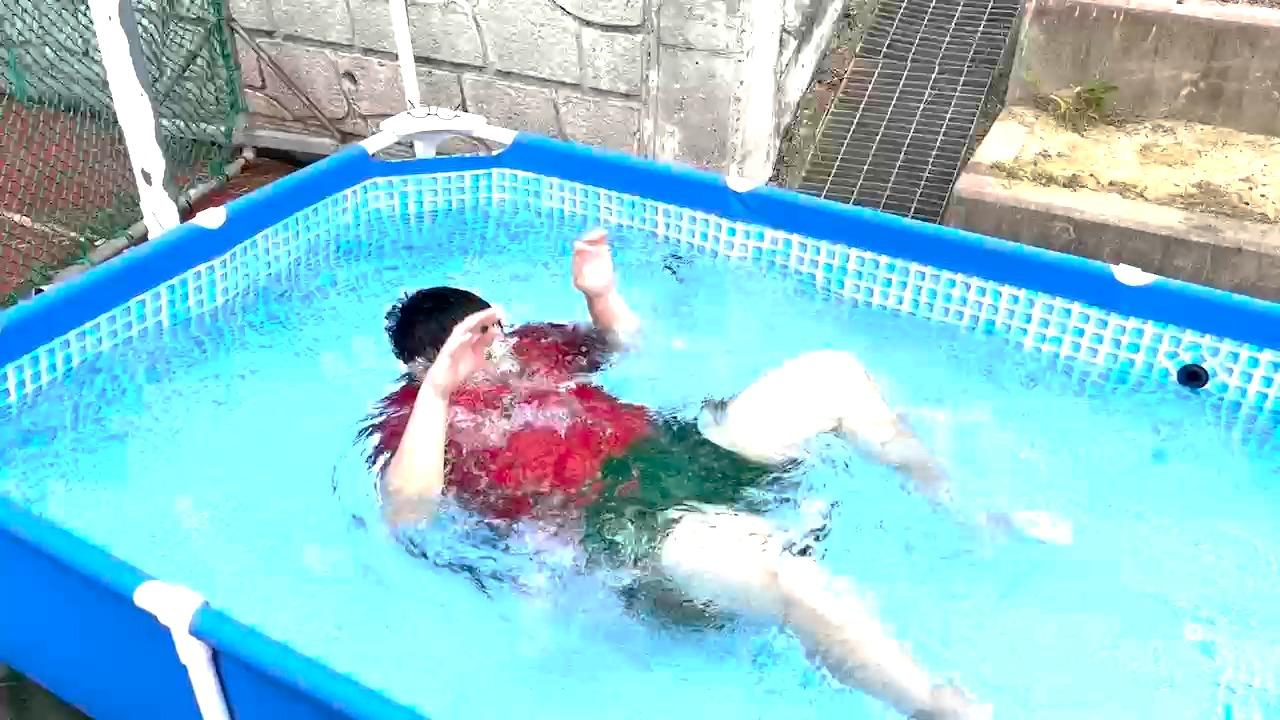Drowning: (277, 223, 1107, 720)
